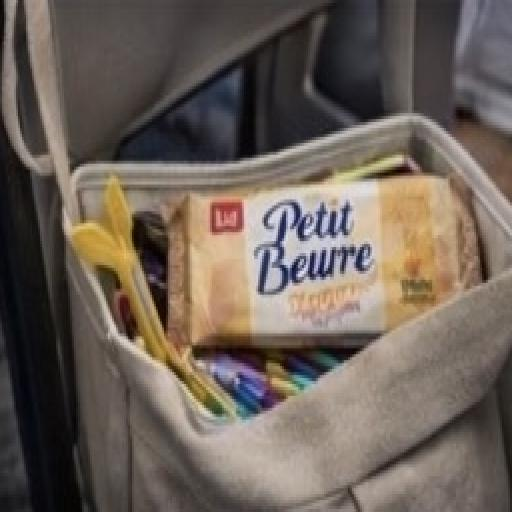petit-beurre: (108, 146, 509, 410)
